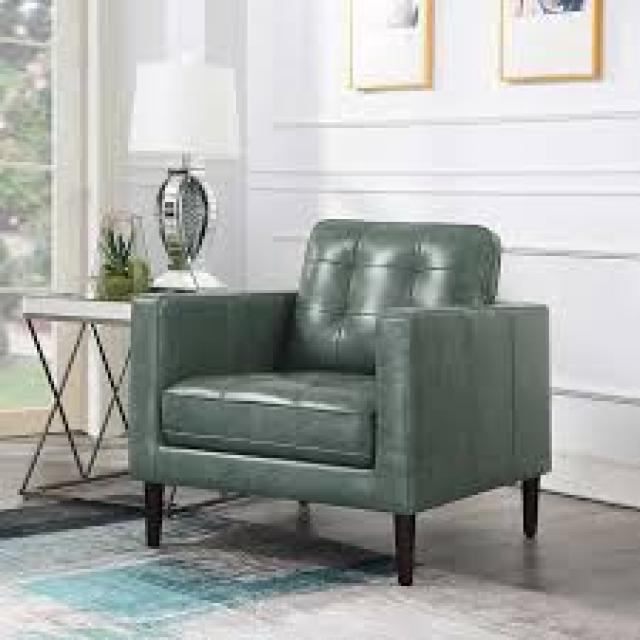chair: (95, 171, 600, 640)
